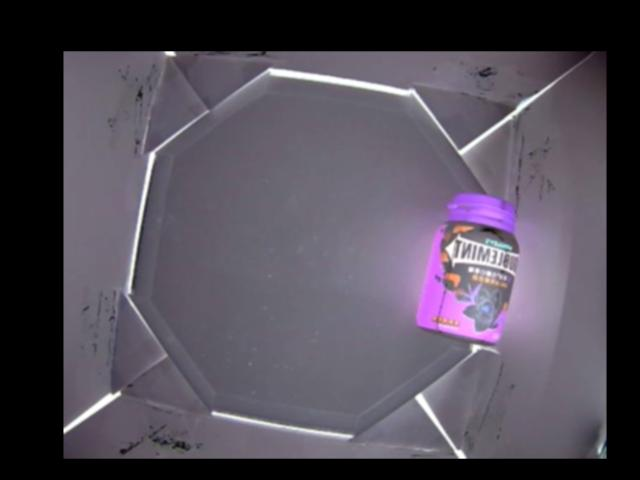Bottle: (417, 195, 520, 349)
